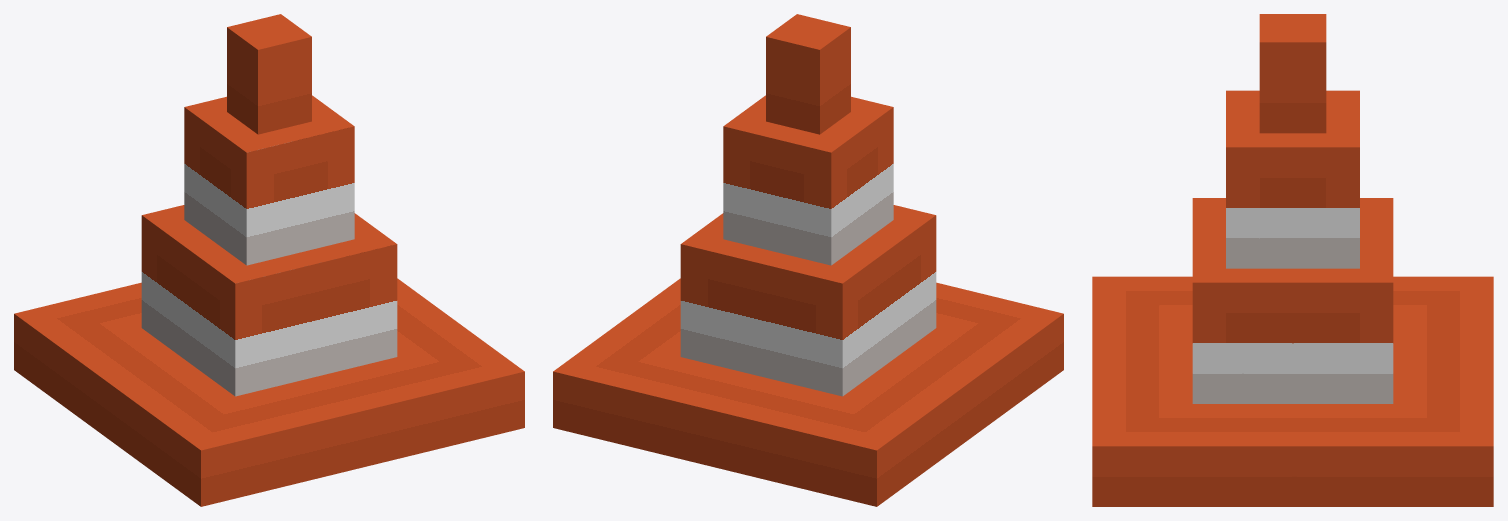
File: traffic_cone.obj
3 views of the same model, side by side, from view 1: azimuth 30°, elevation 25°; view 2: azimuth 150°, elevation 25°; view 3: azimuth 270°, elevation 25° (orthographic). The views are drawn at different scales.
Parts seen in each view (by area): view 1: traffic_cone_part_0, traffic_cone_part_1, traffic_cone_part_2, traffic_cone_part_3; view 2: traffic_cone_part_0, traffic_cone_part_1, traffic_cone_part_2, traffic_cone_part_3; view 3: traffic_cone_part_0, traffic_cone_part_1, traffic_cone_part_2, traffic_cone_part_3.
Boxes of the visible parts, left/top/right/bottom form: traffic_cone_part_0: left=14, top=278, right=524, bottom=506; traffic_cone_part_1: left=141, top=205, right=397, bottom=396; traffic_cone_part_2: left=184, top=95, right=354, bottom=265; traffic_cone_part_3: left=227, top=14, right=311, bottom=134; traffic_cone_part_0: left=553, top=278, right=1063, bottom=506; traffic_cone_part_1: left=680, top=205, right=936, bottom=396; traffic_cone_part_2: left=723, top=95, right=893, bottom=265; traffic_cone_part_3: left=766, top=14, right=850, bottom=134; traffic_cone_part_0: left=1092, top=276, right=1493, bottom=506; traffic_cone_part_1: left=1192, top=198, right=1393, bottom=403; traffic_cone_part_2: left=1226, top=90, right=1359, bottom=268; traffic_cone_part_3: left=1259, top=14, right=1326, bottom=133.
Size of the model in its own units: 0.75 by 0.8125 by 0.75.
Materials: 1 (1 with a texture image).
